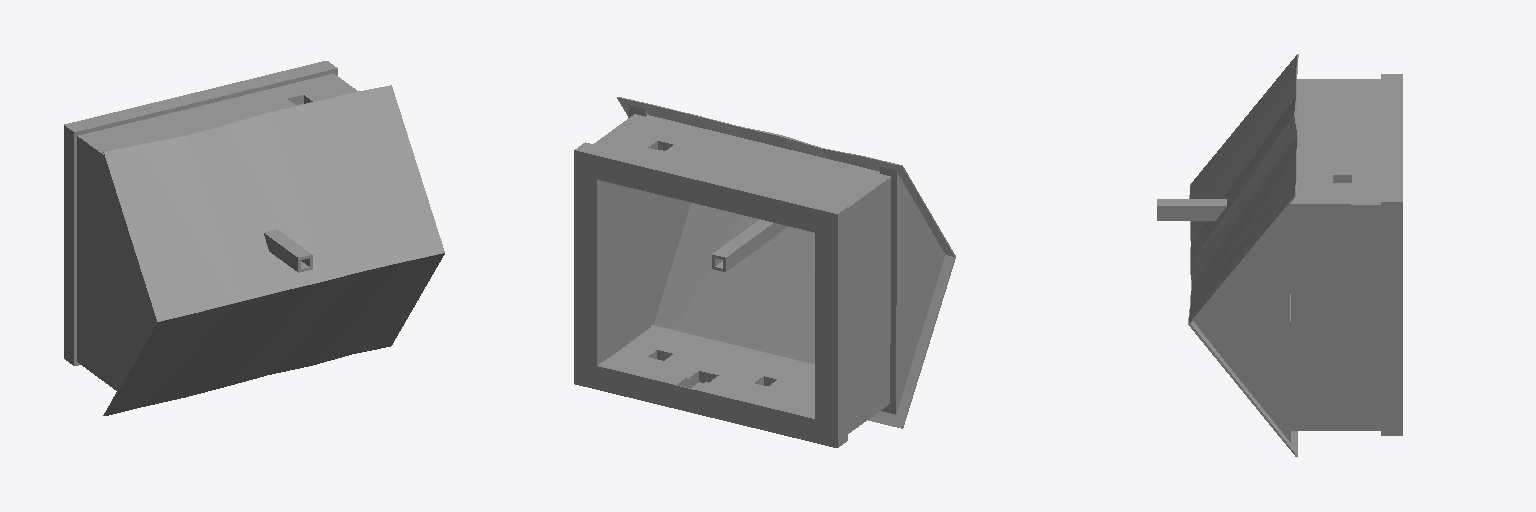
Rendered from house2.obj.
3 renders of one model, left to right at view 1: azimuth 30°, elevation 25°; view 2: azimuth 150°, elevation 25°; view 3: azimuth 270°, elevation 25°, orthographic.
Parts seen in each view (by area): view 1: Line009, Line012, Line013, Shape004, Box008, Box006, Tube002; view 2: Line009, Line013, Line012, Box008, Line011, Shape004, Box005, Box007, Box006, Line008, Shape003, Tube002; view 3: Line008, Line009, Shape003, Line013, Box005, Box008, Tube002.
Boxes of the visible parts, <box> form: Line009: <box>103,85,444,415</box>; Line012: <box>77,136,116,390</box>; Line013: <box>78,73,357,154</box>; Shape004: <box>117,198,155,389</box>; Box008: <box>64,61,337,155</box>; Box006: <box>64,125,96,365</box>; Tube002: <box>263,229,312,272</box>; Line009: <box>617,97,955,428</box>; Line013: <box>594,114,890,207</box>; Line012: <box>848,177,890,433</box>; Box008: <box>574,142,847,237</box>; Line011: <box>609,325,887,427</box>; Shape004: <box>880,167,944,414</box>; Box005: <box>574,150,607,388</box>; Box007: <box>575,358,841,447</box>; Box006: <box>815,207,847,447</box>; Line008: <box>594,118,650,357</box>; Shape003: <box>629,105,690,324</box>; Tube002: <box>712,219,788,271</box>; Line008: <box>1290,204,1380,430</box>; Line009: <box>1188,54,1298,456</box>; Shape003: <box>1194,204,1290,442</box>; Line013: <box>1290,79,1380,204</box>; Box005: <box>1381,202,1402,435</box>; Box008: <box>1381,74,1402,201</box>; Tube002: <box>1157,199,1226,220</box>.
Bounding box in the file's own units: 5.34 × 4.71 × 3.96.